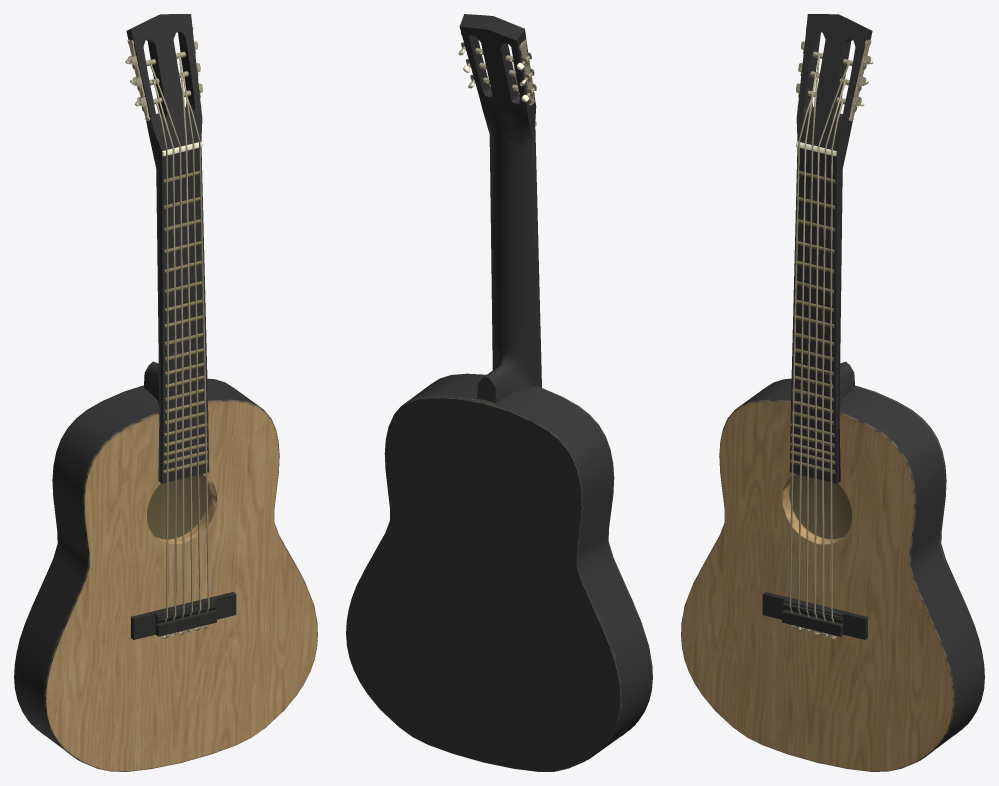
The model's file is acaoustic-guitar-fa465b.glb.
The picture shows the model from 3 angles, left to right: view 1: azimuth 30°, elevation 25°; view 2: azimuth 150°, elevation 25°; view 3: azimuth 330°, elevation 25°; orthographic projection.
Visible parts, largest first — view 1: PropMesh; view 2: PropMesh; view 3: PropMesh.
Boxes of the visible parts, x1=… form: PropMesh: x1=14, y1=14, x2=317, y2=771; PropMesh: x1=346, y1=14, x2=652, y2=771; PropMesh: x1=681, y1=14, x2=984, y2=771.
Bounding box in the file's own units: 0.3909 × 1 × 0.0951.
Materials: 3 (3 with a texture image).
